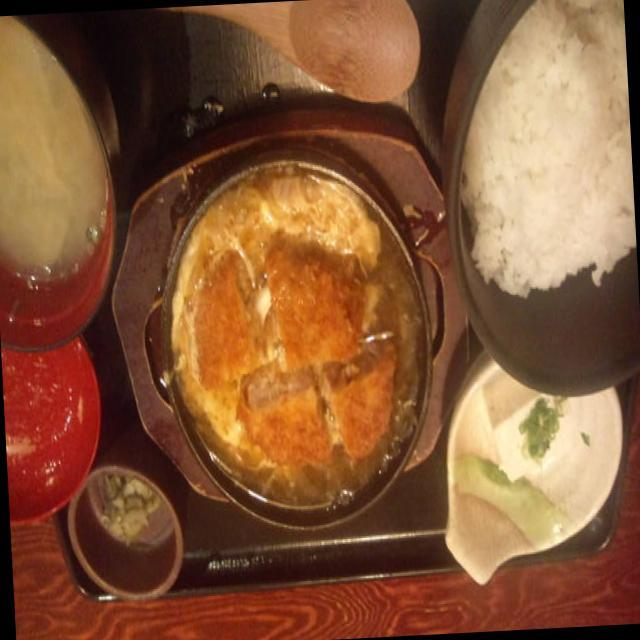Rice: (457, 0, 639, 306)
